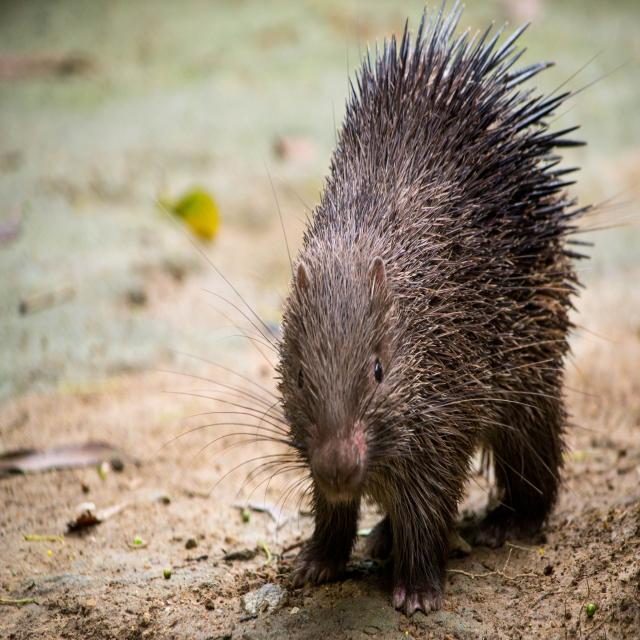Porcupine: (270, 9, 586, 592)
